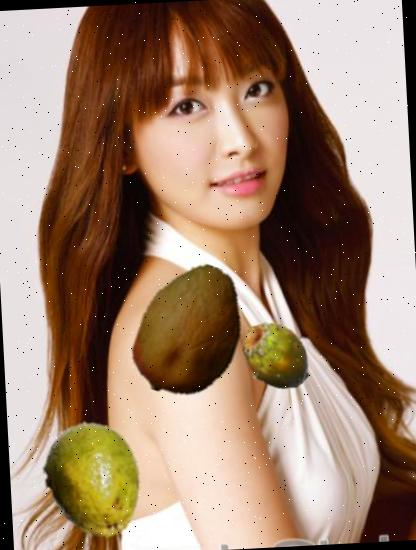Cactus: (236, 318, 316, 398)
Guava: (30, 418, 155, 544)
Papaya: (119, 258, 263, 403)
